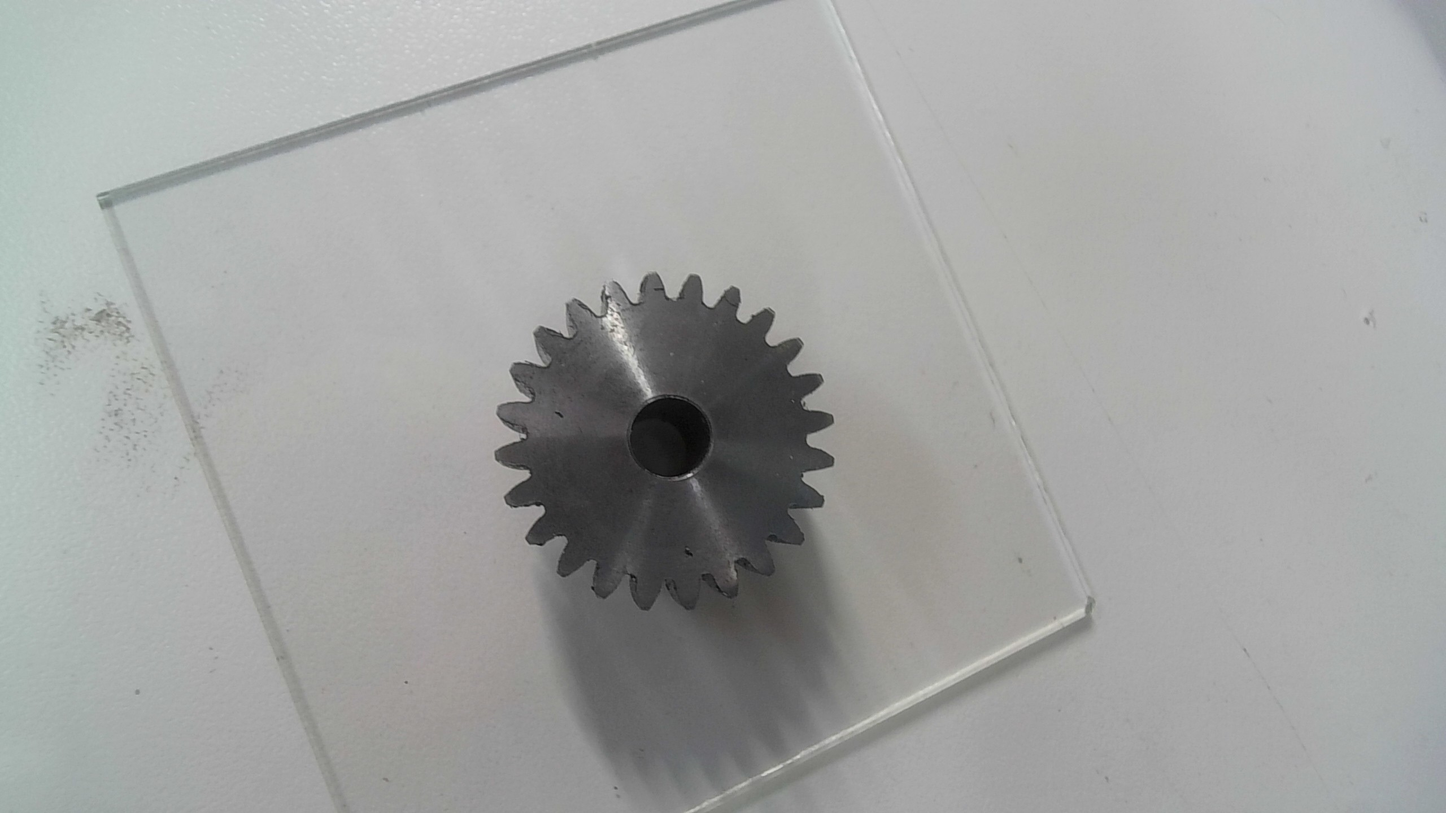gear: (483, 268, 844, 610)
